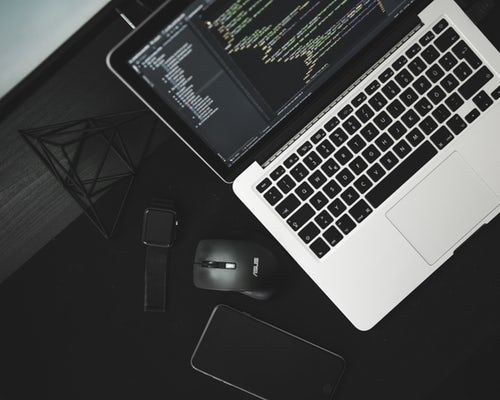phone: (187, 303, 346, 400)
